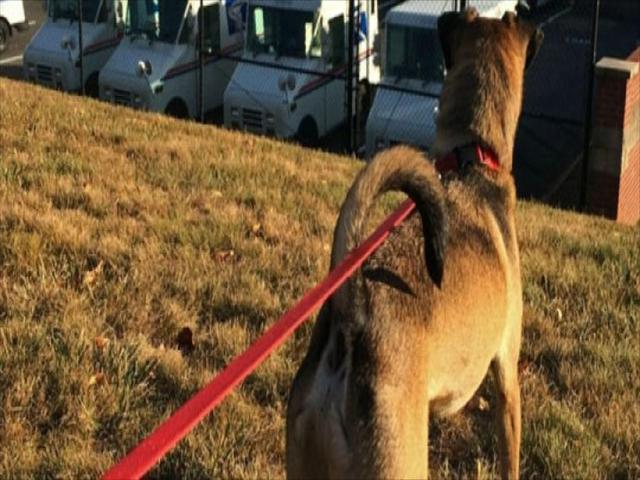dog: (344, 1, 534, 459)
